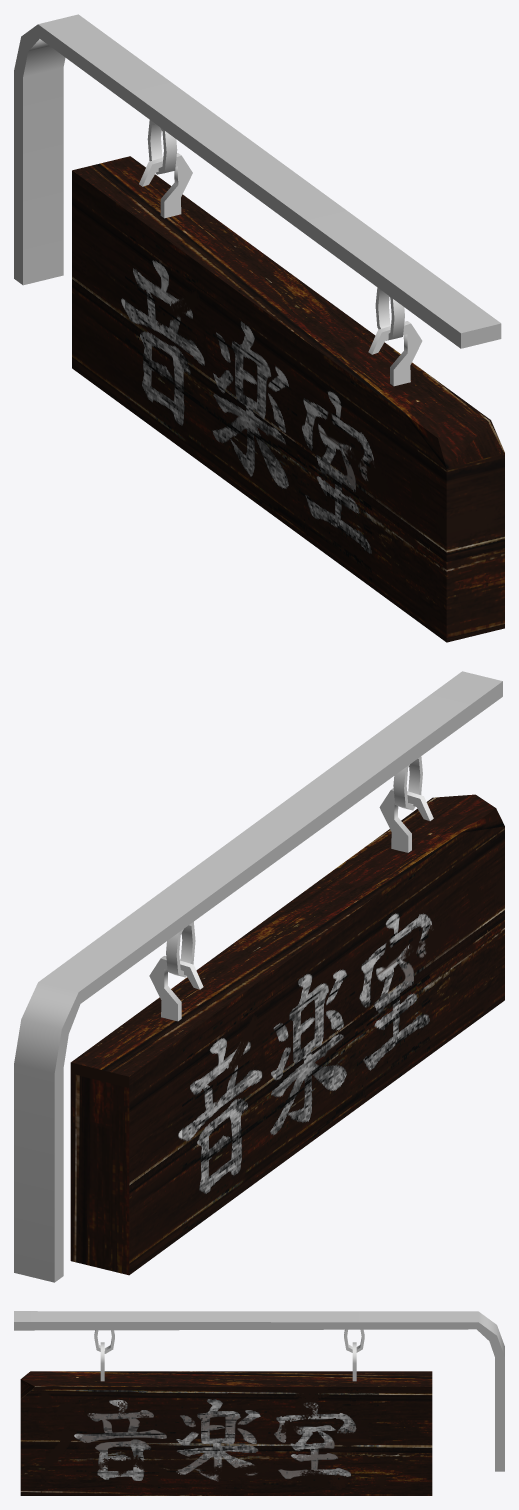
The model's file is Hyoshiki.fbx.
3 views of the same model, one above another, from view 1: azimuth 30°, elevation 25°; view 2: azimuth 150°, elevation 25°; view 3: azimuth 270°, elevation 25° (orthographic). The views are drawn at different scales.
Parts seen in each view (by area): view 1: Wood, Steel, Hook1, Hook2, HookReceived1, HookReceived2; view 2: Wood, Steel, Hook1, Hook2, HookReceived1, HookReceived2; view 3: Wood, Steel.
Part boxes in pixels (bbox=[...]): Wood: bbox=[72, 156, 504, 642]; Steel: bbox=[14, 14, 501, 348]; Hook1: bbox=[139, 153, 192, 218]; Hook2: bbox=[368, 321, 422, 386]; HookReceived1: bbox=[147, 120, 177, 174]; HookReceived2: bbox=[375, 287, 404, 340]; Wood: bbox=[70, 794, 504, 1275]; Steel: bbox=[14, 671, 502, 1282]; Hook1: bbox=[149, 956, 203, 1021]; Hook2: bbox=[379, 788, 433, 852]; HookReceived1: bbox=[166, 921, 195, 977]; HookReceived2: bbox=[393, 756, 422, 810]; Wood: bbox=[20, 1371, 432, 1495]; Steel: bbox=[14, 1311, 504, 1471].
Bounding box in the file's own units: 5.67 × 28.07 × 72.95.
